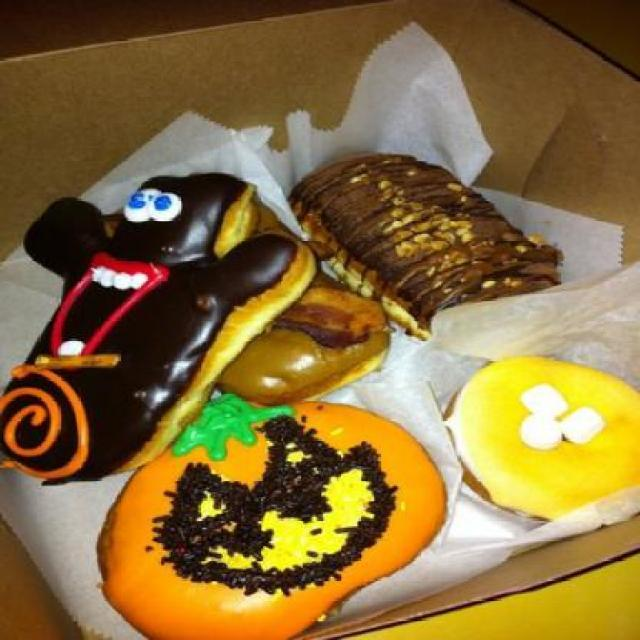Donuts: (21, 162, 638, 640)
